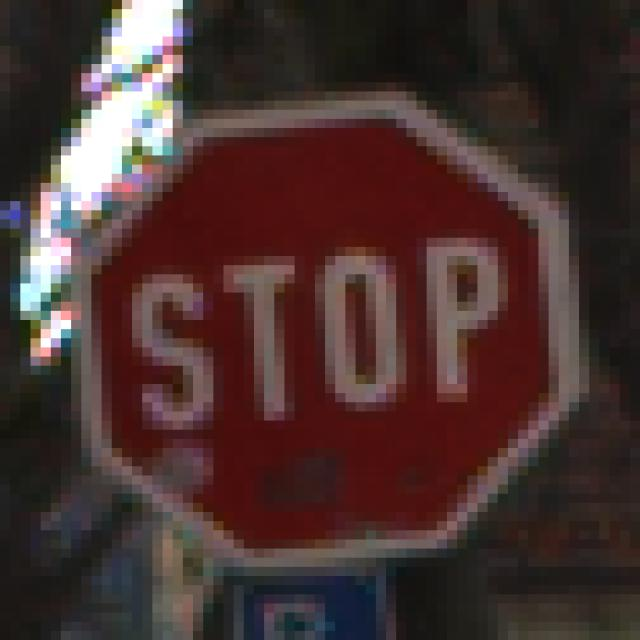STOP: (52, 65, 590, 586)
